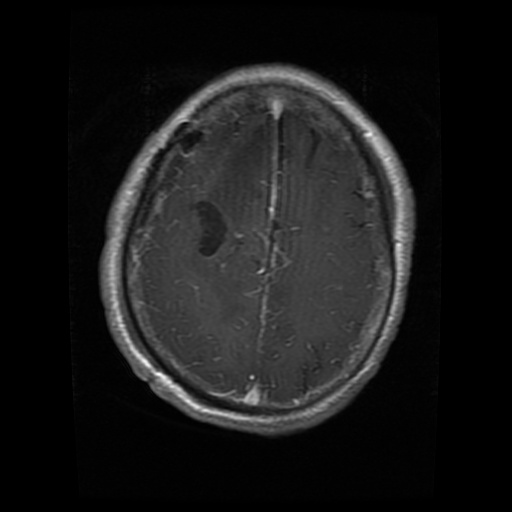glioma: (188, 199, 227, 258)
